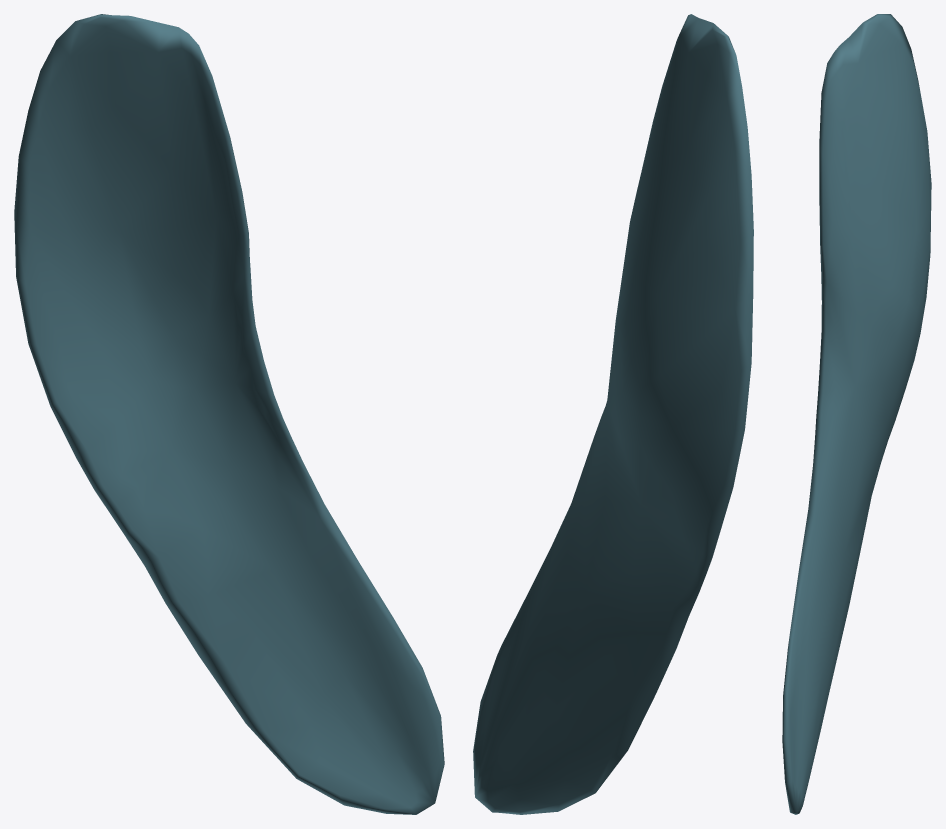
Rendered from Quadratus_femoris_ending_on_quadrate_tubercle.r_Generated_Mesh_.glb.
3 renders of one model, left to right at view 1: azimuth 30°, elevation 25°; view 2: azimuth 150°, elevation 25°; view 3: azimuth 270°, elevation 25°, orthographic. The views are drawn at different scales.
Visible parts, largest first — view 1: Quadratus_femoris_ending_on_quadrate_tubercle.r_Generated_Me; view 2: Quadratus_femoris_ending_on_quadrate_tubercle.r_Generated_Me; view 3: Quadratus_femoris_ending_on_quadrate_tubercle.r_Generated_Me.
Boxes of the visible parts, x1,y1,x2,y2 form: Quadratus_femoris_ending_on_quadrate_tubercle.r_Generated_Me: [14, 14, 444, 814]; Quadratus_femoris_ending_on_quadrate_tubercle.r_Generated_Me: [473, 14, 753, 814]; Quadratus_femoris_ending_on_quadrate_tubercle.r_Generated_Me: [782, 14, 931, 814].
Size of the model in its own units: 0.0191 by 0.0439 by 0.00857.
